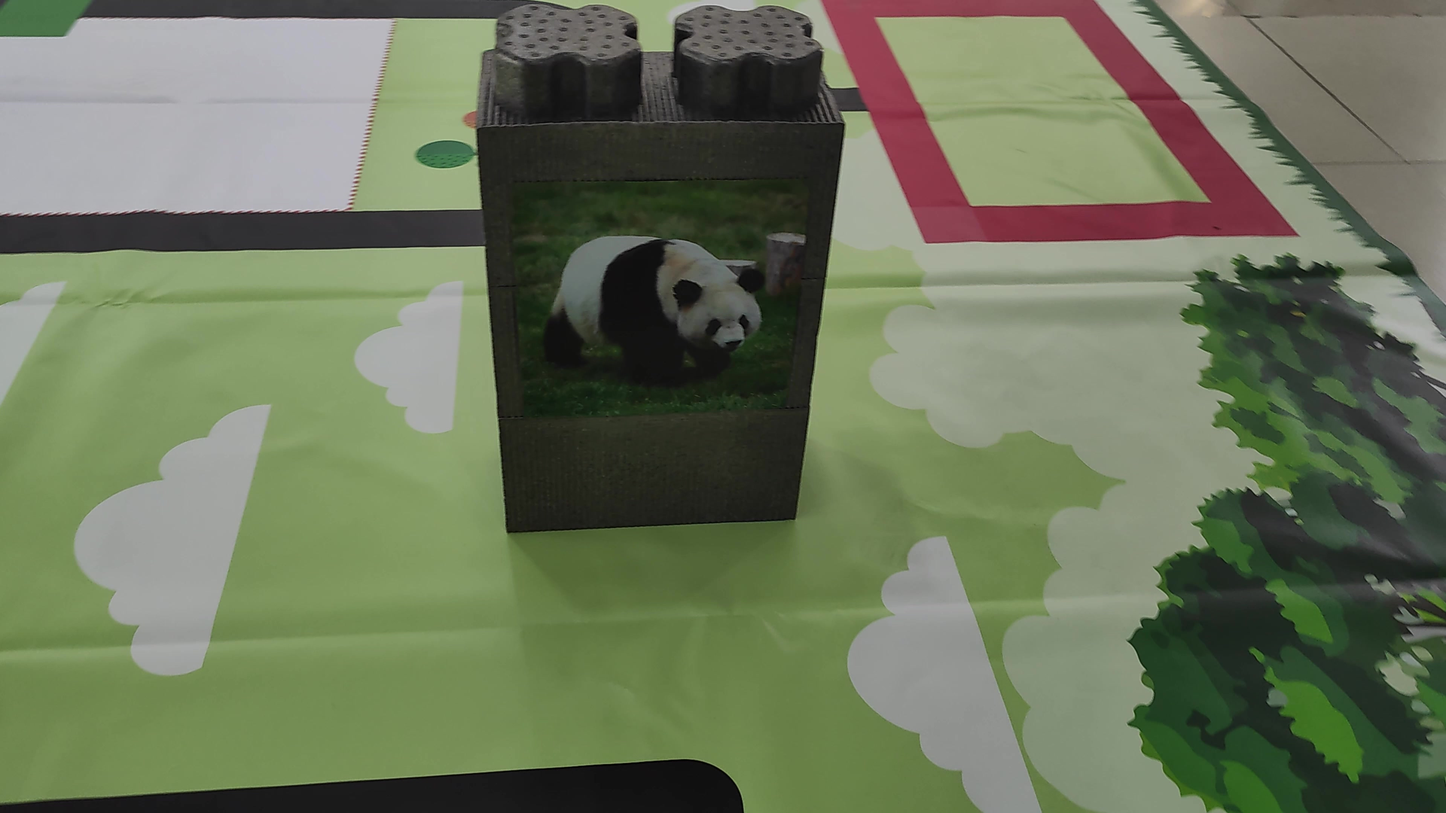panda: (530, 211, 777, 403)
